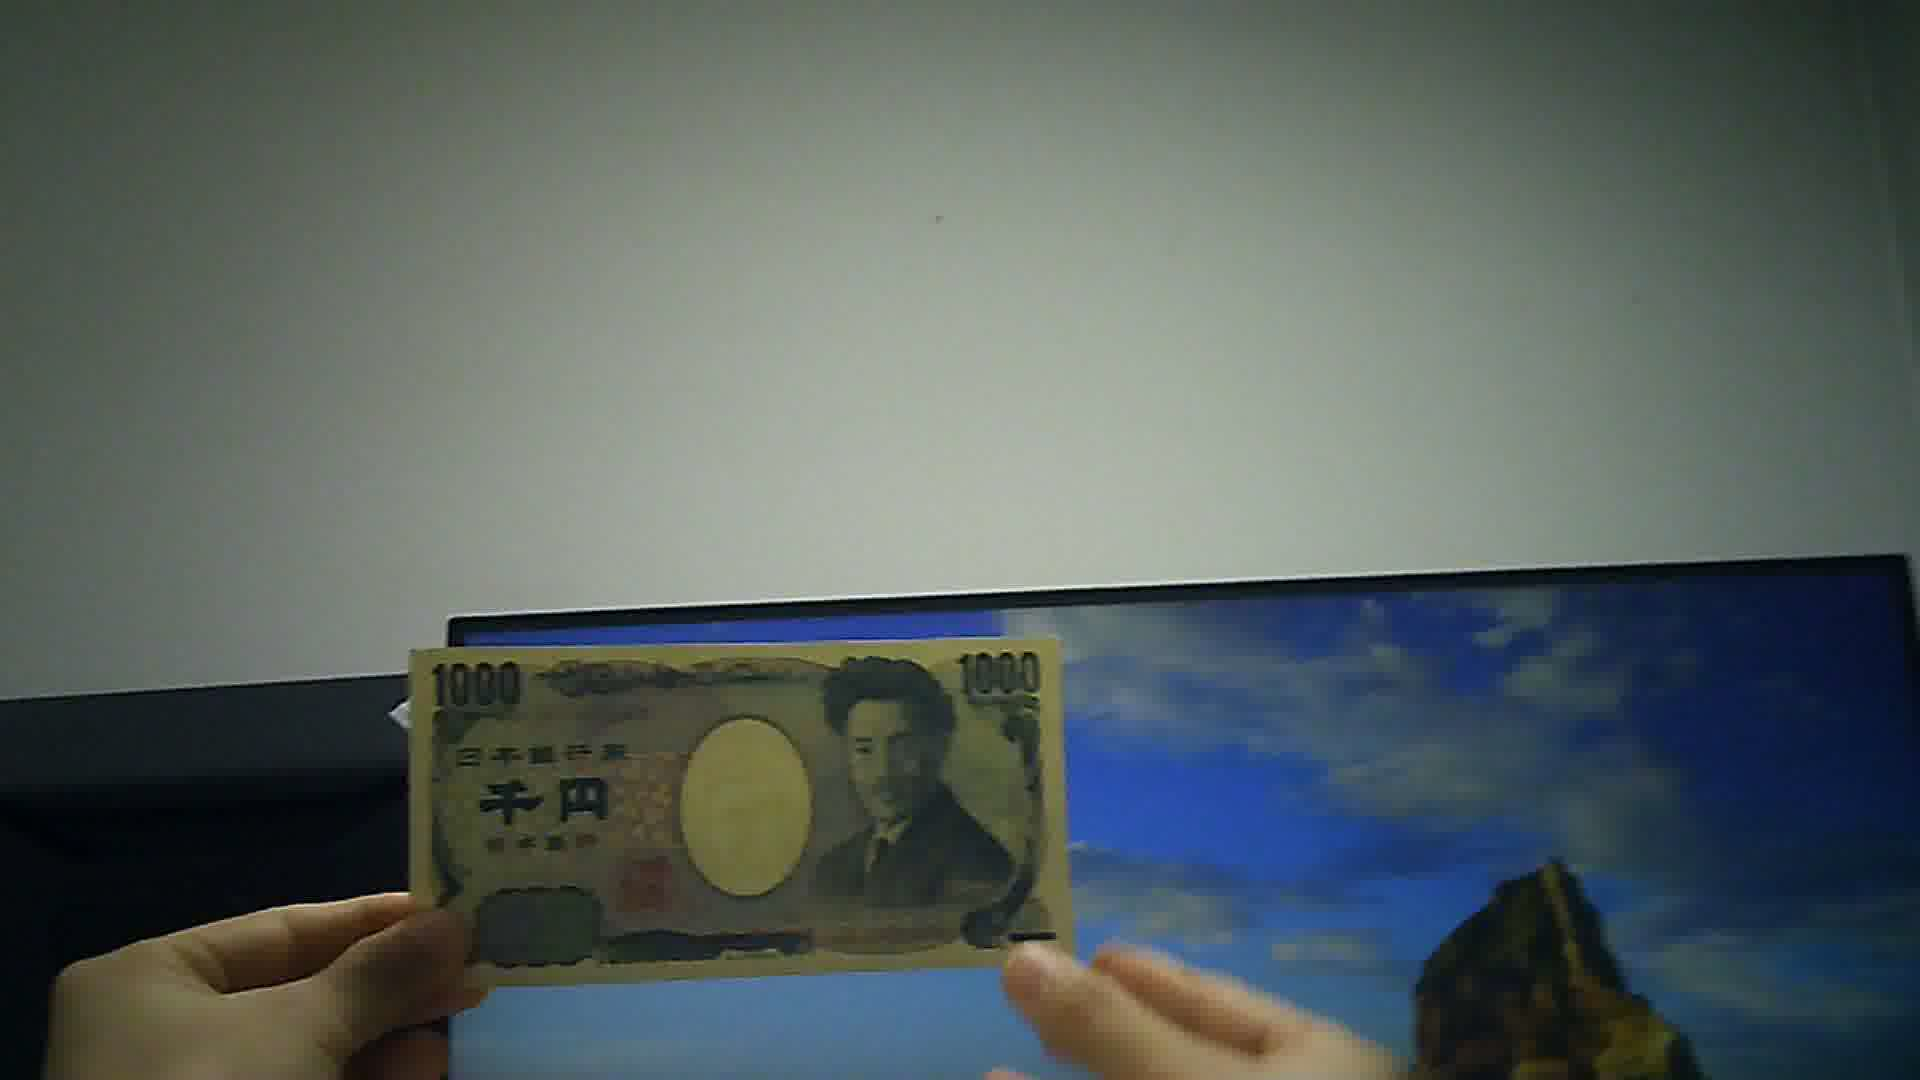1,000 Yen: (400, 636, 1072, 971)
